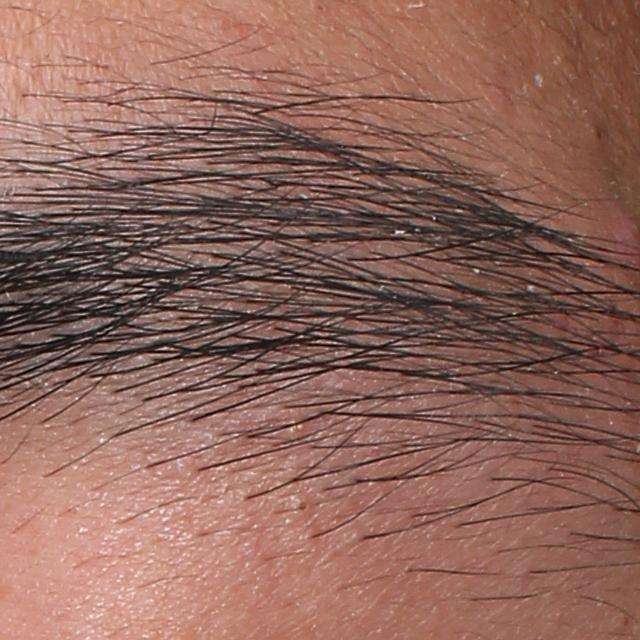comedo: (297, 498, 314, 515)
